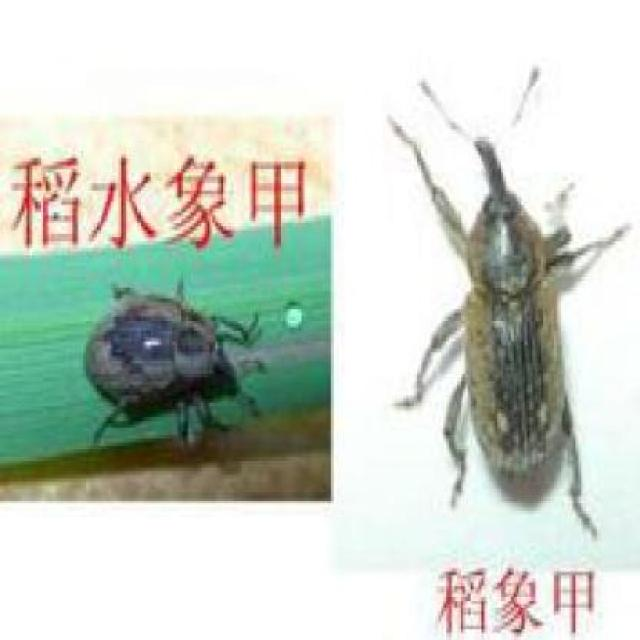rice-bug: (433, 125, 598, 509), (85, 283, 253, 445)
